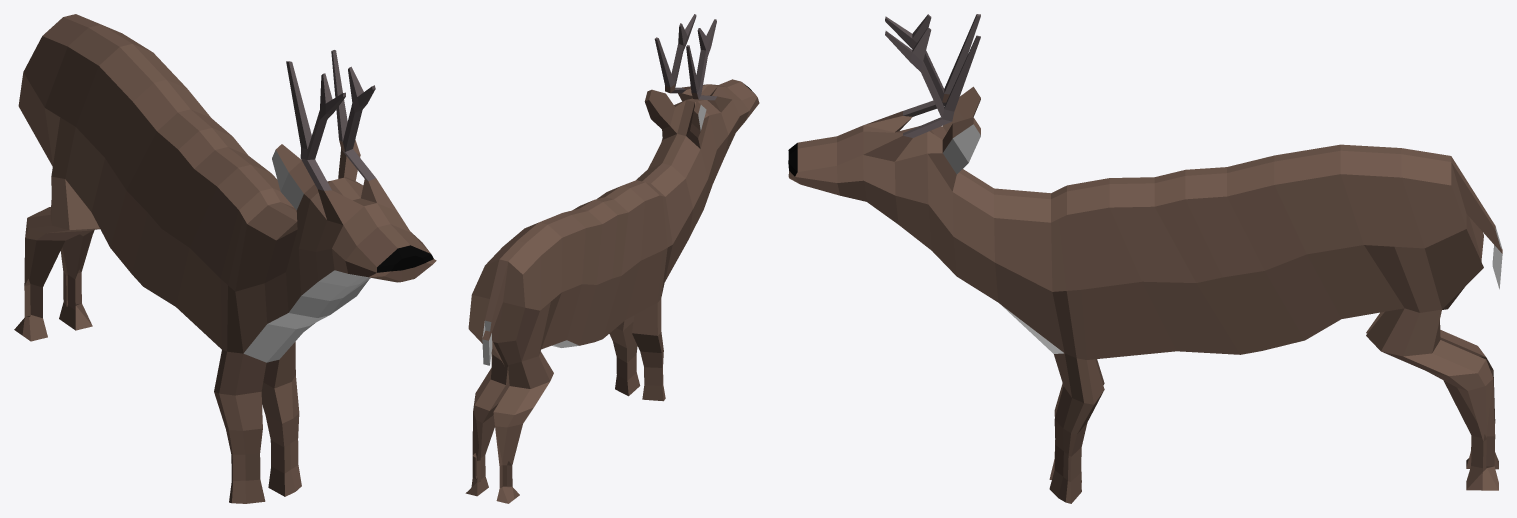
The model's file is deer1.fbx.
The picture shows the model from 3 angles, left to right: view 1: azimuth 30°, elevation 25°; view 2: azimuth 150°, elevation 25°; view 3: azimuth 270°, elevation 25°; orthographic projection. The views are drawn at different scales.
Visible parts, largest first — view 1: Plane; view 2: Plane; view 3: Plane.
Boxes of the visible parts, x1,y1,x2,y2 form: Plane: (14,14,436,503); Plane: (465,14,759,503); Plane: (788,14,1502,503).
Bounding box in the file's own units: 99.33 × 539 × 748.
